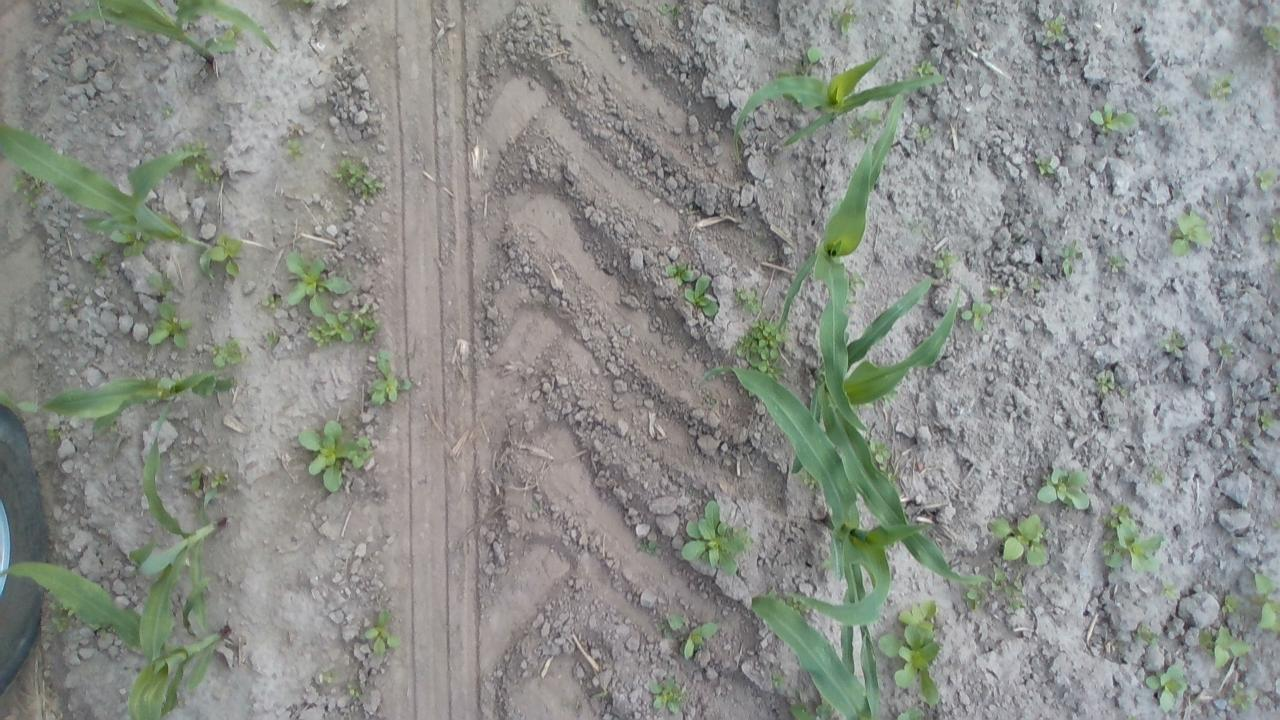Maize: (700, 363, 946, 720), (788, 277, 986, 588), (776, 92, 904, 434), (0, 563, 230, 720), (0, 119, 218, 281), (130, 401, 224, 720), (733, 51, 946, 164), (0, 368, 233, 441), (751, 593, 872, 720), (66, 0, 280, 64)
Weeds: (876, 600, 940, 706), (680, 500, 756, 576), (298, 420, 372, 493), (1098, 503, 1164, 574), (286, 251, 354, 317), (736, 316, 788, 379), (989, 514, 1050, 566), (306, 306, 382, 347), (369, 349, 412, 406), (1197, 624, 1251, 668), (330, 158, 385, 200), (1036, 468, 1091, 510), (146, 300, 193, 348), (1146, 665, 1188, 714), (1170, 210, 1214, 256), (990, 564, 1025, 613), (1251, 573, 1280, 632), (364, 610, 400, 656), (208, 234, 242, 278), (867, 436, 899, 482), (680, 622, 717, 660), (1090, 103, 1138, 132), (649, 678, 686, 715), (684, 276, 718, 316), (110, 230, 158, 258), (846, 108, 884, 142), (12, 170, 44, 209), (210, 336, 248, 368), (168, 140, 212, 167), (49, 598, 76, 634), (788, 698, 832, 720), (1058, 239, 1084, 276), (960, 301, 991, 331), (1227, 682, 1257, 711), (795, 46, 821, 77), (734, 285, 762, 313), (1040, 16, 1066, 46), (932, 249, 959, 277), (963, 581, 987, 612), (1208, 74, 1234, 102), (664, 262, 694, 286), (776, 596, 806, 618), (148, 271, 174, 296), (830, 11, 857, 35), (211, 24, 243, 44), (192, 162, 222, 183), (658, 614, 684, 638), (1134, 622, 1158, 648), (85, 248, 107, 276), (1160, 332, 1183, 356), (1259, 26, 1280, 52), (796, 468, 820, 490), (1254, 169, 1278, 190), (284, 138, 304, 162), (1262, 218, 1280, 244), (189, 460, 204, 490), (912, 59, 936, 77), (913, 123, 932, 145), (1032, 156, 1054, 175), (210, 471, 232, 490), (90, 622, 116, 638), (262, 294, 284, 312), (847, 269, 865, 291), (657, 2, 680, 19), (1221, 595, 1241, 614), (1158, 580, 1177, 599), (1097, 372, 1114, 393), (638, 537, 658, 554), (898, 707, 924, 720), (1108, 253, 1124, 274), (881, 388, 900, 404), (46, 424, 61, 444), (1260, 411, 1274, 432), (264, 330, 280, 348), (772, 672, 788, 690), (344, 682, 362, 698), (61, 295, 77, 311), (1218, 342, 1234, 358), (1150, 466, 1165, 483), (1156, 104, 1172, 117), (580, 0, 597, 12), (160, 106, 176, 118), (252, 99, 266, 110), (1030, 276, 1041, 290), (988, 284, 1000, 296), (910, 221, 921, 234), (846, 294, 856, 307), (530, 500, 540, 512), (595, 690, 609, 698), (323, 674, 334, 684), (767, 588, 777, 598), (707, 394, 716, 405), (536, 5, 546, 14), (689, 486, 698, 495), (685, 203, 693, 213), (863, 402, 874, 409), (1120, 388, 1128, 397), (110, 425, 118, 434), (748, 389, 755, 397), (1240, 438, 1248, 445), (1274, 262, 1280, 271), (302, 0, 312, 5), (1275, 382, 1280, 392), (1273, 521, 1280, 528), (1128, 715, 1136, 720), (954, 0, 960, 4)
